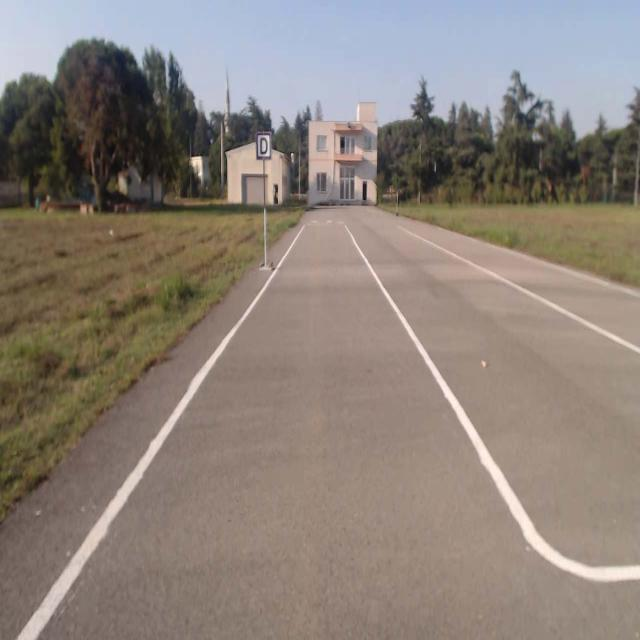durak: (257, 132, 271, 160)
